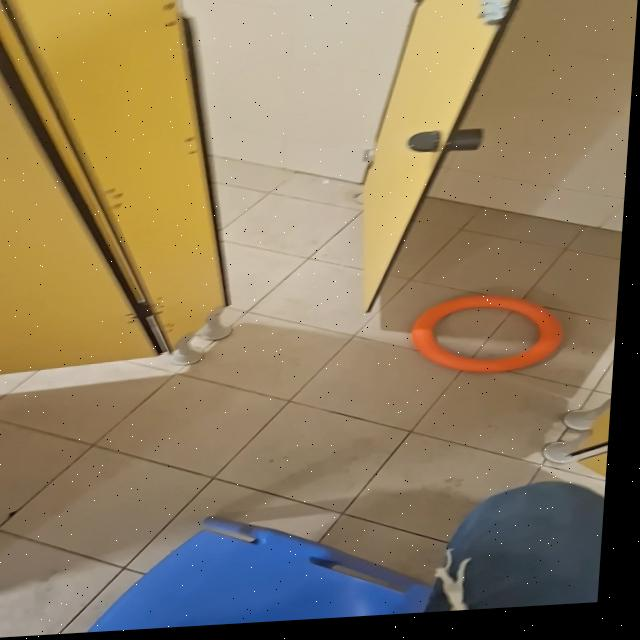note: (412, 296, 572, 384)
